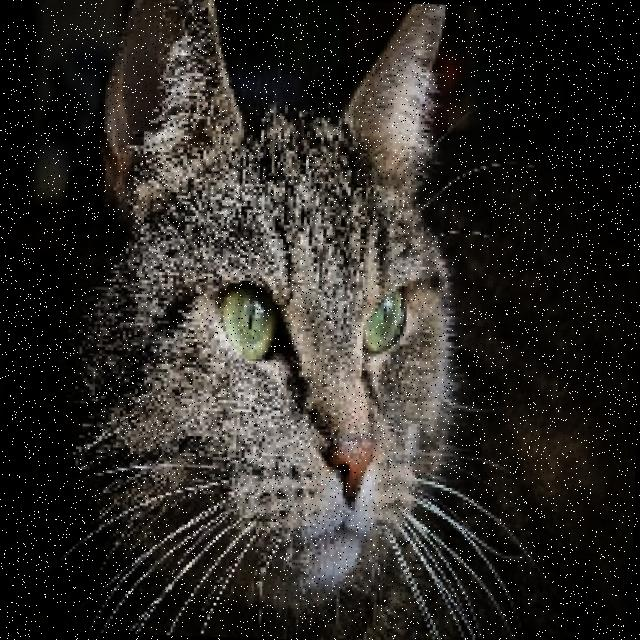Angry: (152, 233, 458, 622)
